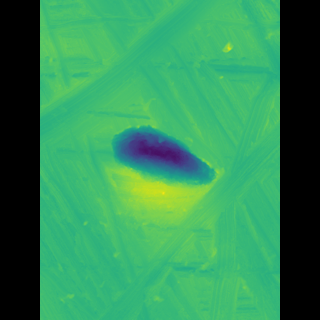Loch: (71, 0, 208, 157), (191, 72, 249, 319), (121, 118, 209, 192)
